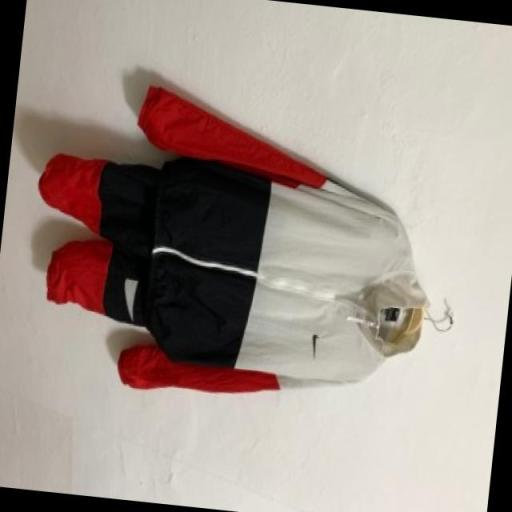Nike: (306, 326, 320, 363)
